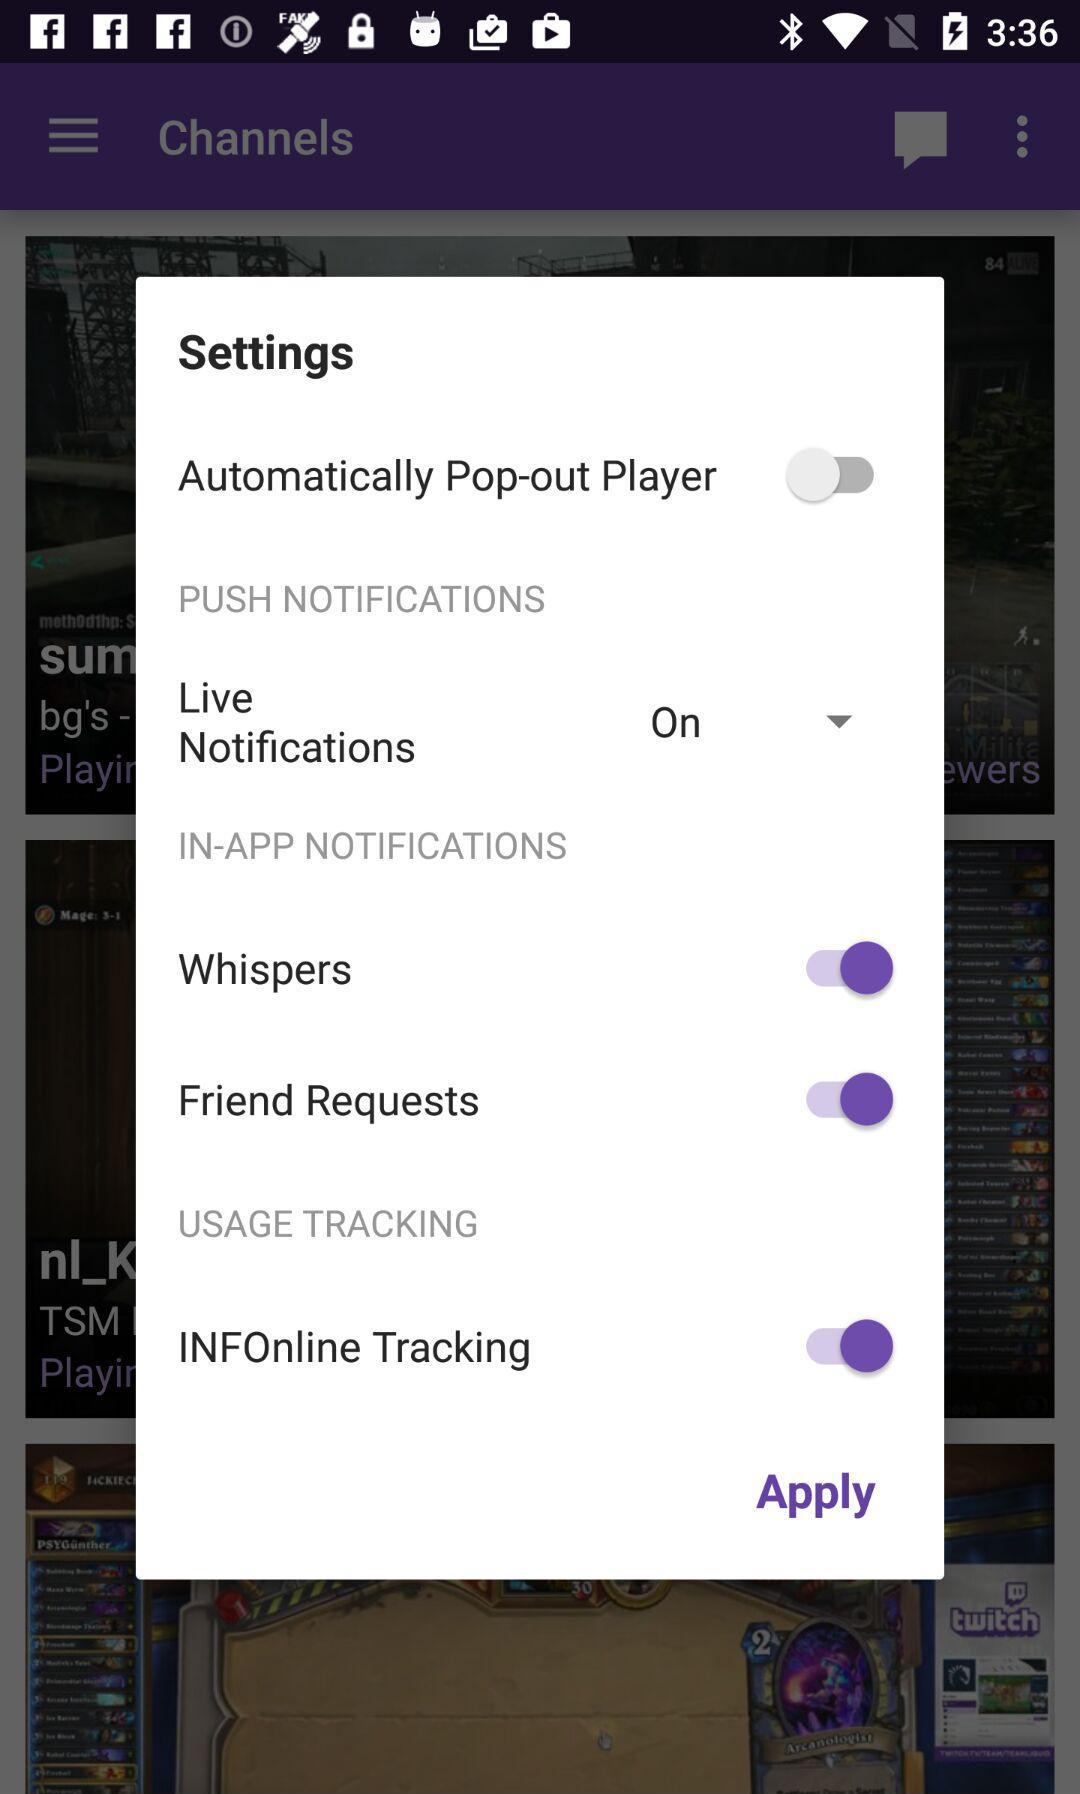Icon: (893, 111, 948, 170), (47, 118, 100, 156), (1015, 115, 1027, 160), (825, 714, 855, 730)
Modal: (136, 277, 945, 1581)
Switch: (784, 447, 876, 505), (805, 1317, 896, 1375), (805, 1071, 894, 1129), (805, 941, 896, 997)
Text: (178, 457, 719, 502), (179, 680, 416, 764), (179, 1329, 530, 1372), (179, 1082, 480, 1126), (179, 829, 568, 861), (181, 583, 546, 616), (179, 1208, 478, 1239), (178, 334, 355, 381), (178, 951, 352, 994), (160, 119, 354, 158), (755, 1470, 878, 1521), (651, 706, 702, 739)
UpperTaskBar: (1, 1, 1080, 64)
